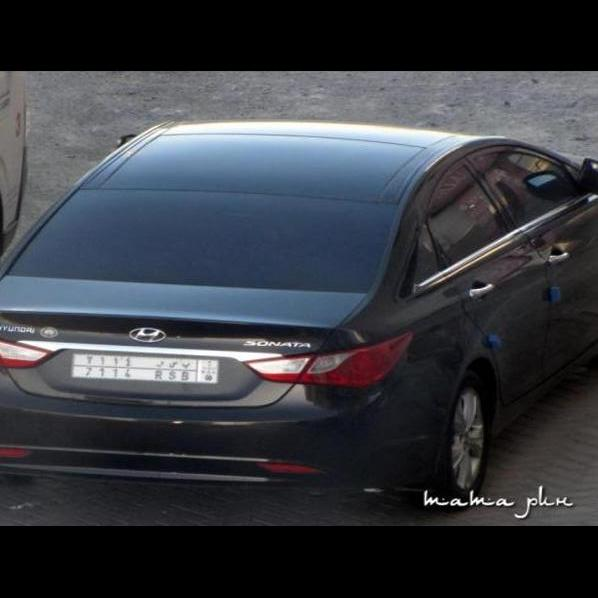numberplate: (71, 354, 219, 383)
